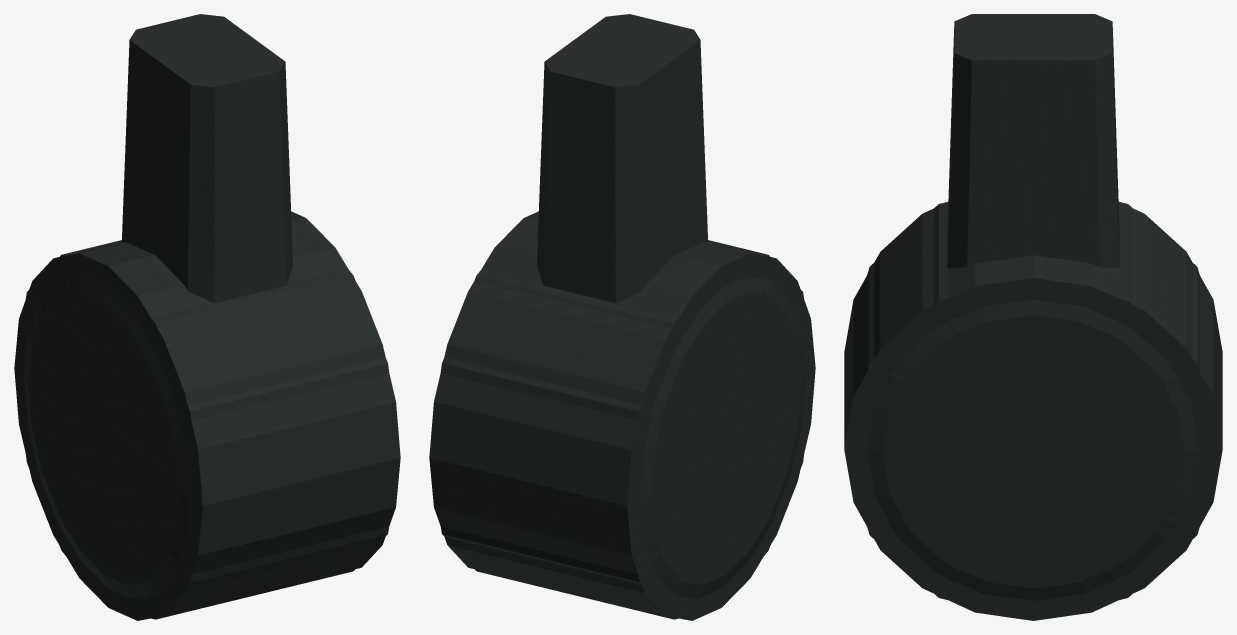
3 renders of one model, left to right at view 1: azimuth 30°, elevation 25°; view 2: azimuth 150°, elevation 25°; view 3: azimuth 270°, elevation 25°, orthographic.
Visible parts, largest first — view 1: ar556_60_round_housing, ar556_60_round_housing.001; view 2: ar556_60_round_housing, ar556_60_round_housing.001; view 3: ar556_60_round_housing, ar556_60_round_housing.001.
Boxes of the visible parts, bbox=[...] form: ar556_60_round_housing: bbox=[14, 14, 400, 620]; ar556_60_round_housing.001: bbox=[14, 240, 389, 619]; ar556_60_round_housing: bbox=[429, 14, 815, 620]; ar556_60_round_housing.001: bbox=[440, 240, 815, 619]; ar556_60_round_housing: bbox=[844, 14, 1222, 620]; ar556_60_round_housing.001: bbox=[845, 202, 1221, 620].
Size of the model in its own units: 0.126 by 0.309 by 0.198.
1 material, 1 textured.
